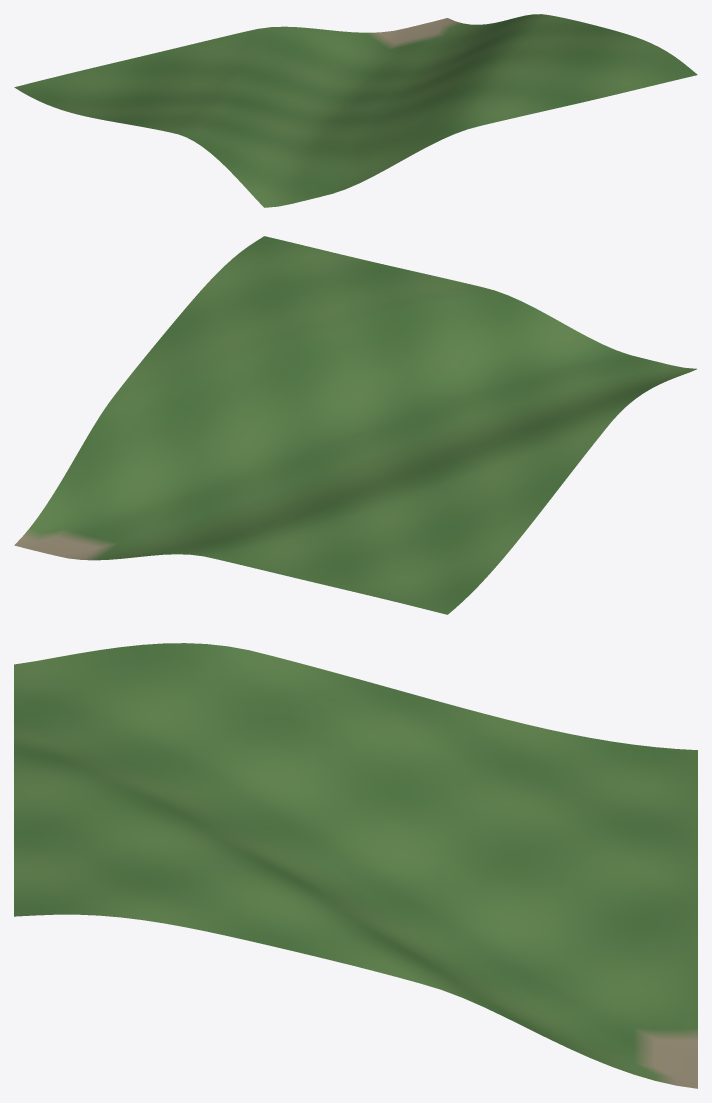
File: chunk_4_12.glb
The picture shows the model from 3 angles, top to bottom: view 1: azimuth 30°, elevation 25°; view 2: azimuth 150°, elevation 25°; view 3: azimuth 270°, elevation 25°; orthographic projection. The views are drawn at different scales.
Bounding box in the file's own units: 512 × 145 × 512.
